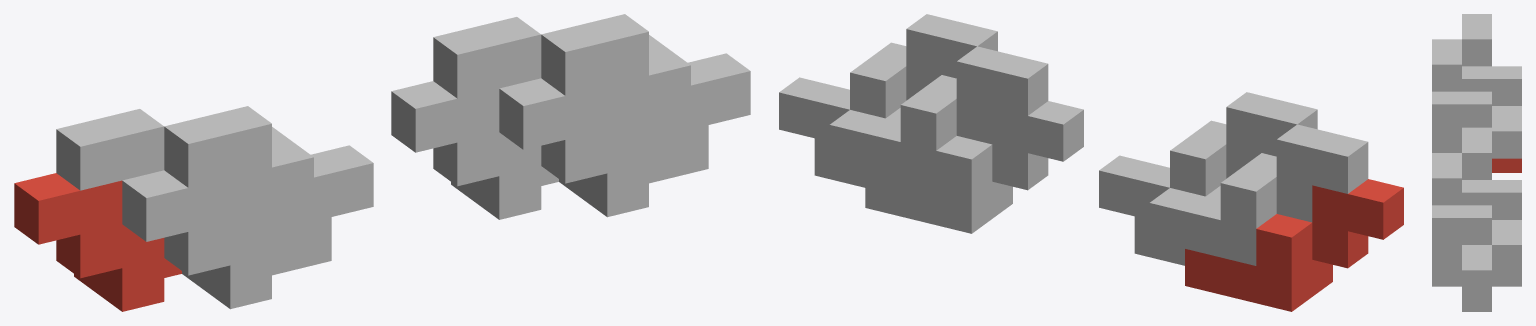
Rendered from tiling.obj.
3 renders of one model, left to right at view 1: azimuth 30°, elevation 25°; view 2: azimuth 150°, elevation 25°; view 3: azimuth 270°, elevation 25°, orthographic. The views are drawn at different scales.
Parts seen in each view (by area): view 1: copy_1_domain_4, copy_1_domain_8, copy_1_domain_2, copy_1_domain_6, copy_1_domain_1, copy_1_domain_5, copy_1_domain_3, copy_1_domain_7; view 2: copy_1_domain_3, copy_1_domain_7, copy_1_domain_1, copy_1_domain_5, copy_1_domain_8, copy_1_domain_4, copy_1_domain_6, copy_1_domain_2; view 3: copy_1_domain_8, copy_1_domain_7, copy_1_domain_3, copy_1_domain_4, copy_1_domain_6, copy_1_domain_1, copy_1_domain_5.
Part boxes in pixels (x1,y1,x2,y2): copy_1_domain_4: (164, 106, 373, 254); copy_1_domain_8: (541, 14, 750, 162); copy_1_domain_2: (122, 170, 331, 309); copy_1_domain_6: (499, 78, 708, 217); copy_1_domain_1: (14, 173, 181, 311); copy_1_domain_5: (391, 81, 558, 219); copy_1_domain_3: (56, 109, 164, 190); copy_1_domain_7: (433, 17, 541, 98); copy_1_domain_3: (1149, 124, 1368, 265); copy_1_domain_7: (829, 46, 1048, 187); copy_1_domain_1: (1185, 179, 1403, 311); copy_1_domain_5: (865, 101, 1083, 233); copy_1_domain_8: (779, 14, 997, 141); copy_1_domain_4: (1099, 92, 1317, 219); copy_1_domain_6: (814, 108, 900, 187); copy_1_domain_2: (1134, 186, 1220, 265); copy_1_domain_8: (1432, 153, 1491, 297); copy_1_domain_7: (1462, 127, 1521, 272); copy_1_domain_3: (1462, 14, 1521, 158); copy_1_domain_4: (1432, 39, 1491, 152); copy_1_domain_6: (1432, 272, 1491, 311); copy_1_domain_1: (1492, 158, 1521, 172); copy_1_domain_5: (1492, 272, 1521, 286).
Size of the model in its own units: 17 by 4 by 3.
